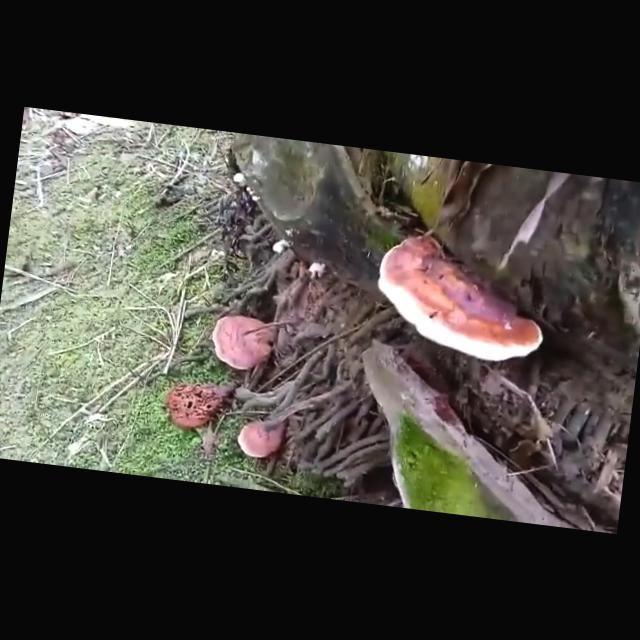ganoderma: (369, 228, 557, 371), (208, 313, 281, 376), (235, 414, 289, 464)
